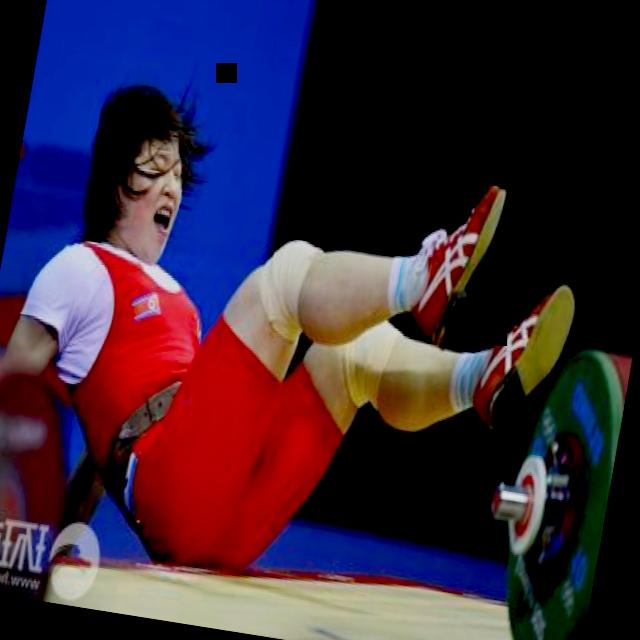Fall-Detected: (0, 61, 636, 640)
